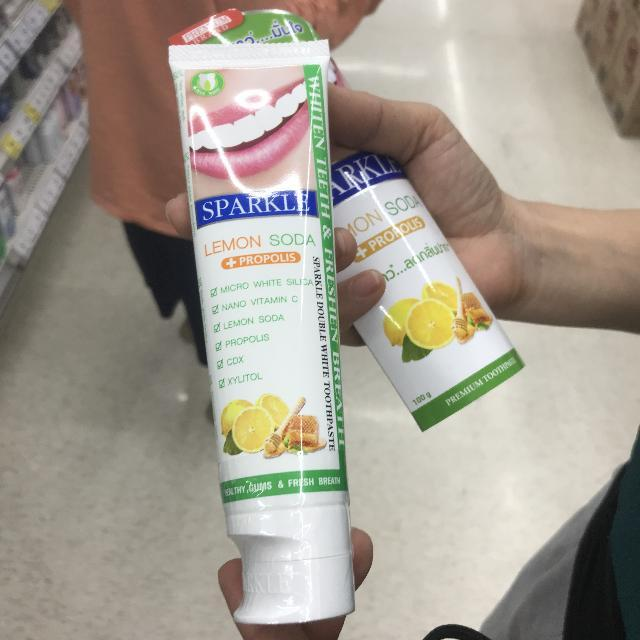Squeeze Tube: (149, 12, 377, 625)
